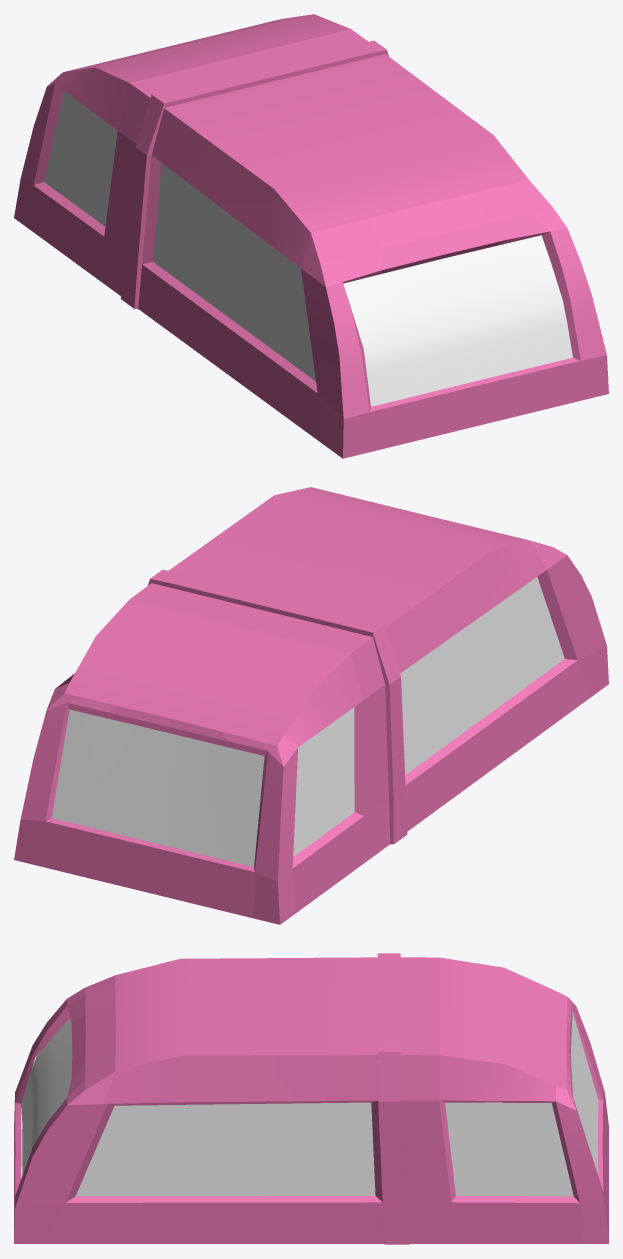
The model's file is ROUND-TOP-37ZJ_6Sc.glb.
The picture shows the model from 3 angles, top to bottom: view 1: azimuth 30°, elevation 25°; view 2: azimuth 150°, elevation 25°; view 3: azimuth 270°, elevation 25°; orthographic projection. The views are drawn at different scales.
Bounding box in the file's own units: 1.54 × 1.09 × 3.21.
Materials: 2 (2 with a texture image).
